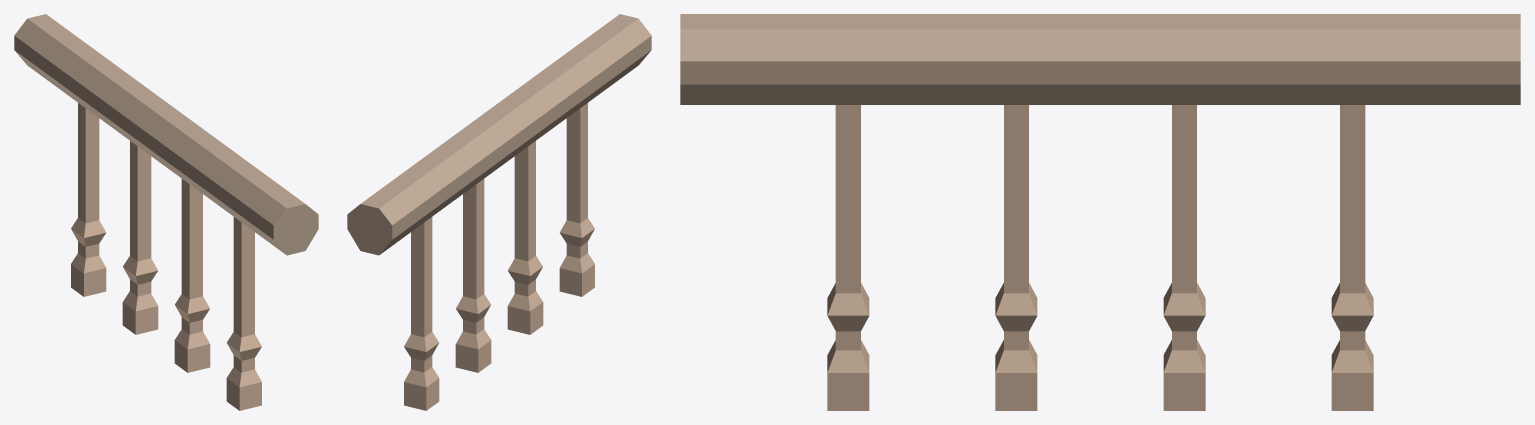
File: Structure_Stairs_Railing_Landing_Side.glb
3 renders of one model, left to right at view 1: azimuth 30°, elevation 25°; view 2: azimuth 150°, elevation 25°; view 3: azimuth 270°, elevation 25°, orthographic. The views are drawn at different scales.
Visible parts, largest first — view 1: Structure_Stairs_Railing_Landing_Side; view 2: Structure_Stairs_Railing_Landing_Side; view 3: Structure_Stairs_Railing_Landing_Side.
Boxes of the visible parts, x1,y1,x2,y2 form: Structure_Stairs_Railing_Landing_Side: (14, 14, 318, 410); Structure_Stairs_Railing_Landing_Side: (347, 14, 651, 410); Structure_Stairs_Railing_Landing_Side: (680, 14, 1520, 410).
Bounding box in the file's own units: 0.1 × 0.5 × 1.
